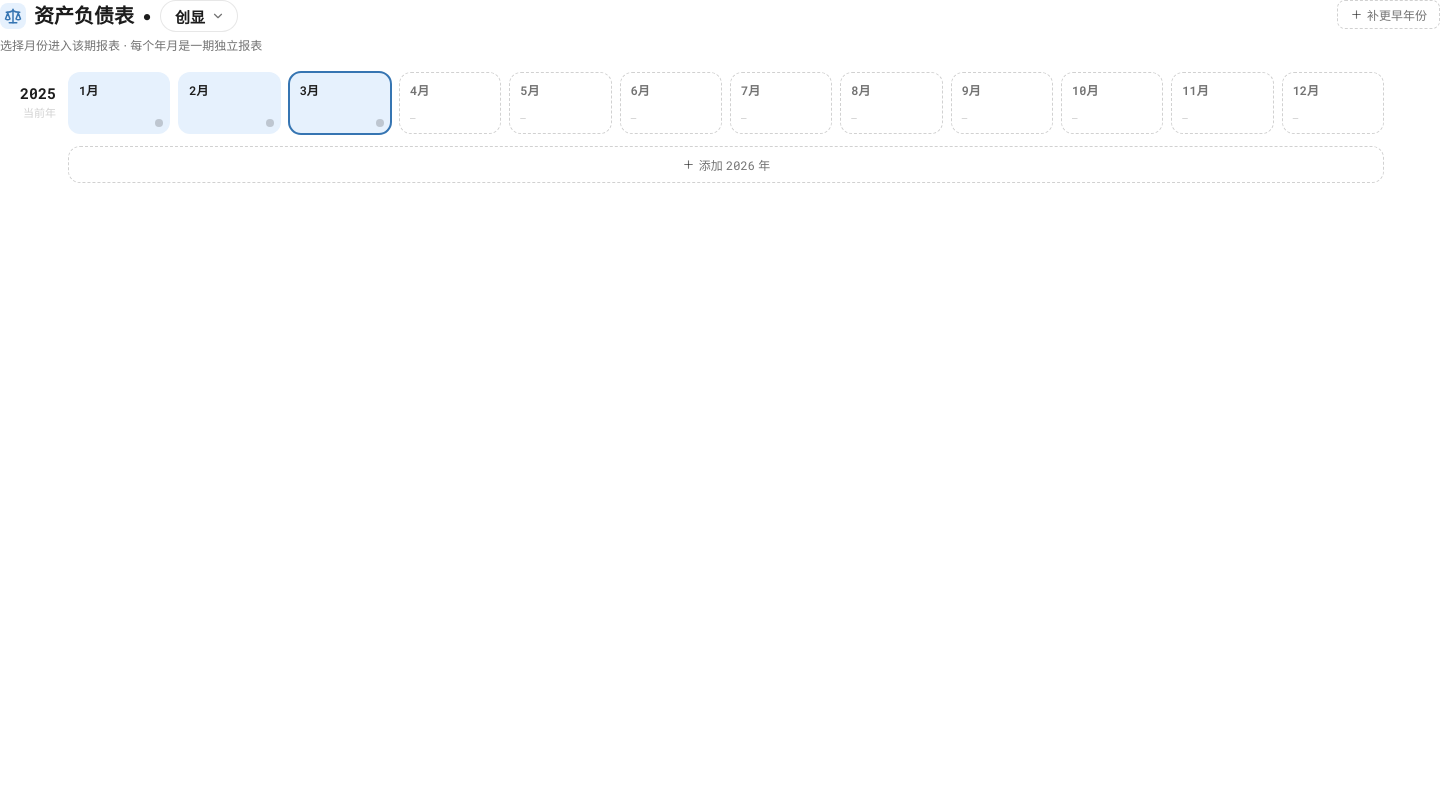
资产负债表 · 段里一格数都没有的段头默认收起(稿 ReportBS 非流动负债) › ❗非流动负债 4 项 · 合计 收着(箭头朝右,下面 4 行不画);有数的段展开;点开才露出来
Step 1. Click the button with class "bmm-card" showing "1月" → (119, 103), box [68, 72, 170, 134]
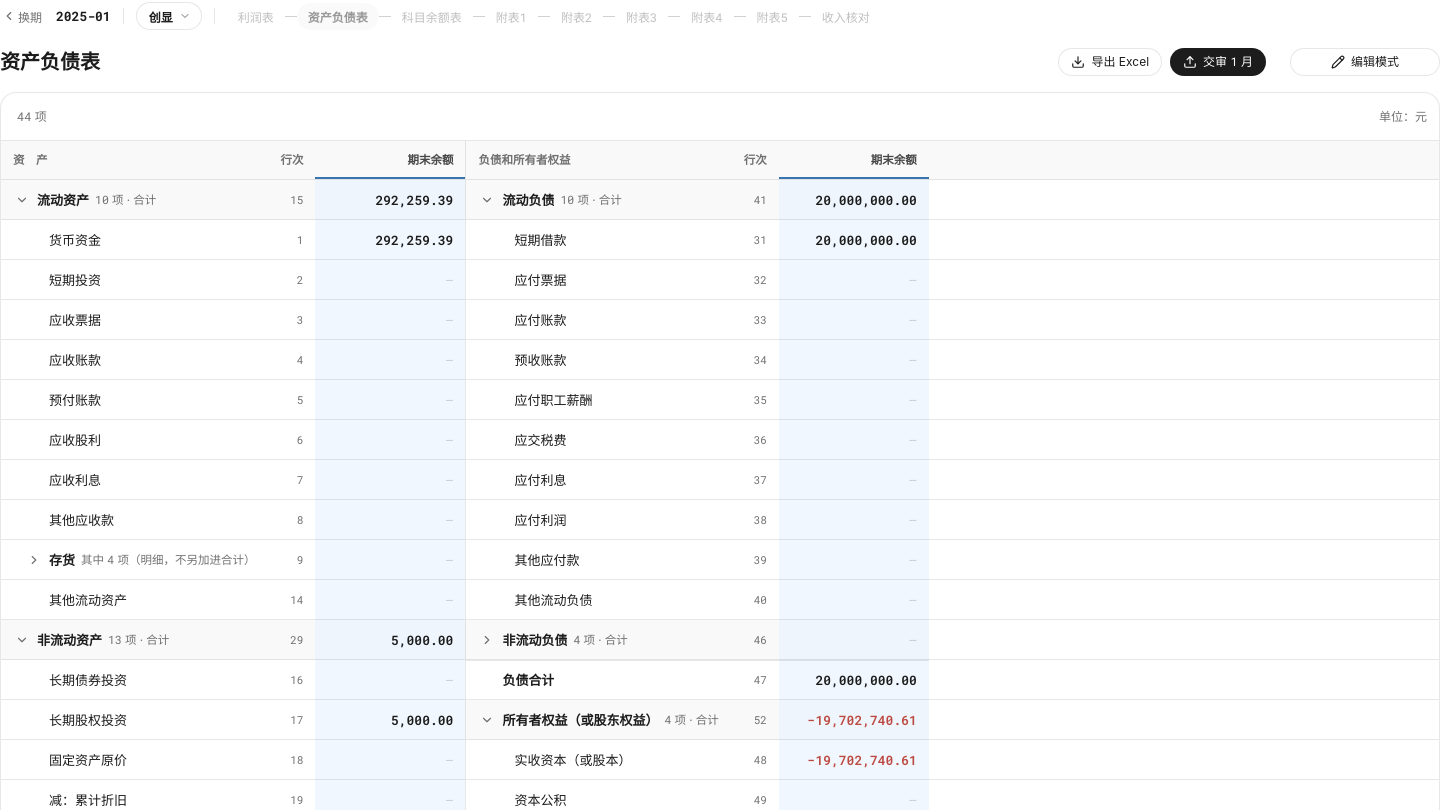
Expected: the text "长期借款" is not shown
Expected: the text "货币资金" is shown, [49, 230, 101, 250]
Step 2. Click the button with class "fin-caret" next to "非流动负债" → (487, 640), box [478, 630, 496, 648]
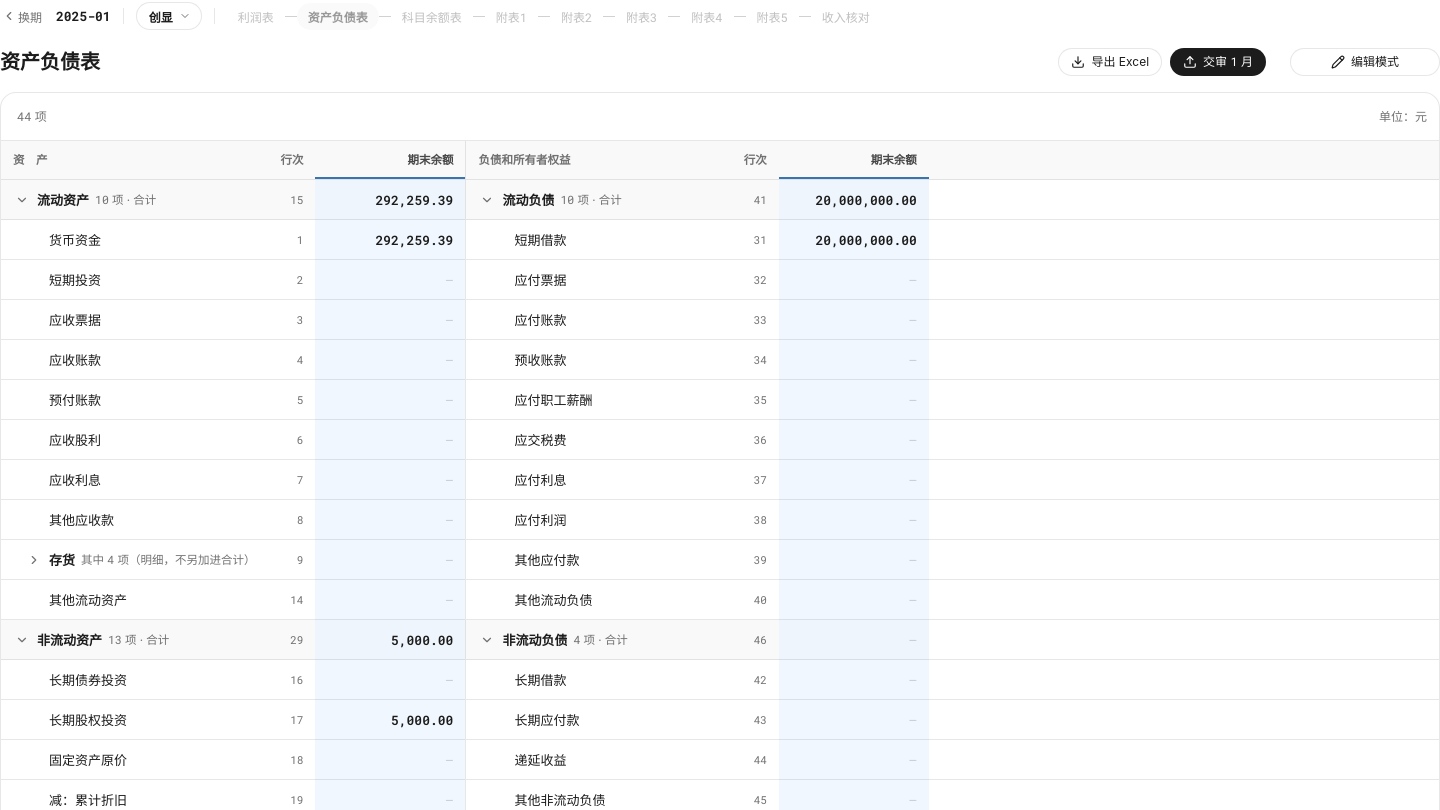
Expected: the text "长期借款" is shown, [514, 670, 566, 690]
